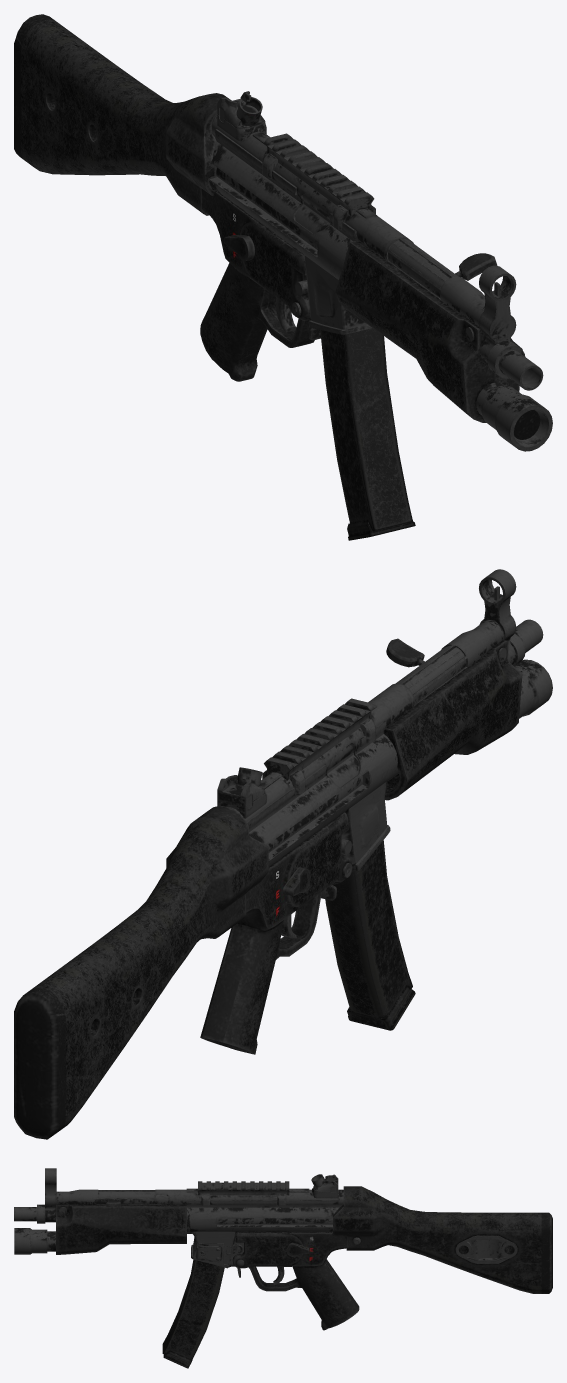
3 views of the same model, one above another, from view 1: azimuth 30°, elevation 25°; view 2: azimuth 150°, elevation 25°; view 3: azimuth 270°, elevation 25° (orthographic). The views are drawn at different scales.
Visible parts, largest first — view 1: Receiver_low, Stock_low, Barrel_low, Mag_low, Bolt_low, CH_low; view 2: Receiver_low, Stock_low, Barrel_low, Mag_low, Bolt_low, CH_low; view 3: Receiver_low, Stock_low, Barrel_low, Mag_low, CH_low.
Part boxes in pixels (bbox=[...]): Receiver_low: bbox=[200, 91, 485, 381]; Stock_low: bbox=[14, 14, 231, 215]; Barrel_low: bbox=[335, 240, 552, 451]; Mag_low: bbox=[320, 328, 415, 540]; Bolt_low: bbox=[295, 193, 330, 233]; CH_low: bbox=[455, 253, 497, 280]; Receiver_low: bbox=[200, 620, 503, 1054]; Stock_low: bbox=[14, 805, 268, 1139]; Barrel_low: bbox=[383, 569, 552, 800]; Mag_low: bbox=[325, 840, 415, 1030]; Bolt_low: bbox=[327, 743, 359, 787]; CH_low: bbox=[386, 638, 424, 667]; Receiver_low: bbox=[56, 1174, 359, 1330]; Stock_low: bbox=[333, 1186, 552, 1293]; Barrel_low: bbox=[14, 1168, 186, 1254]; Mag_low: bbox=[162, 1259, 224, 1368]; CH_low: bbox=[94, 1194, 169, 1207].
Bounding box in the file's own units: 0.0672 × 0.2587 × 0.6515.
Materials: 2 (2 with a texture image).
